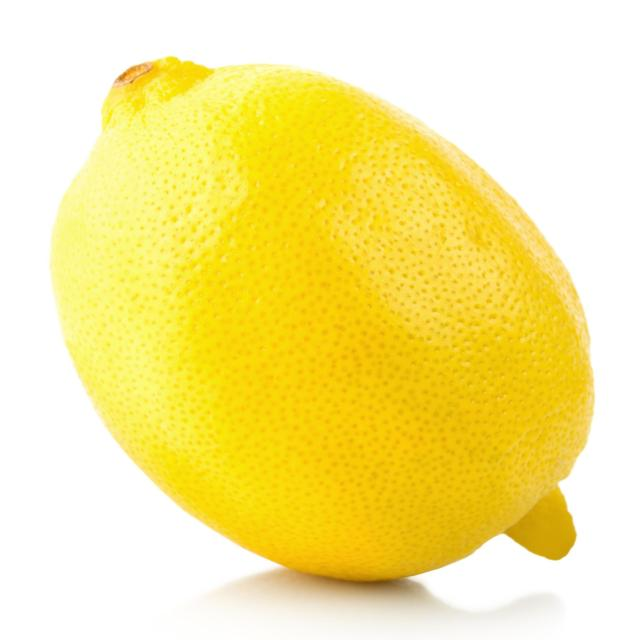lemon: (34, 42, 605, 601)
